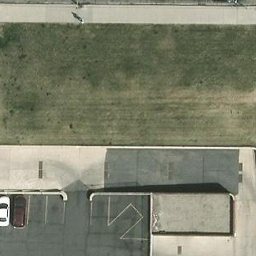car: (13, 195, 27, 227), (1, 196, 11, 227)
